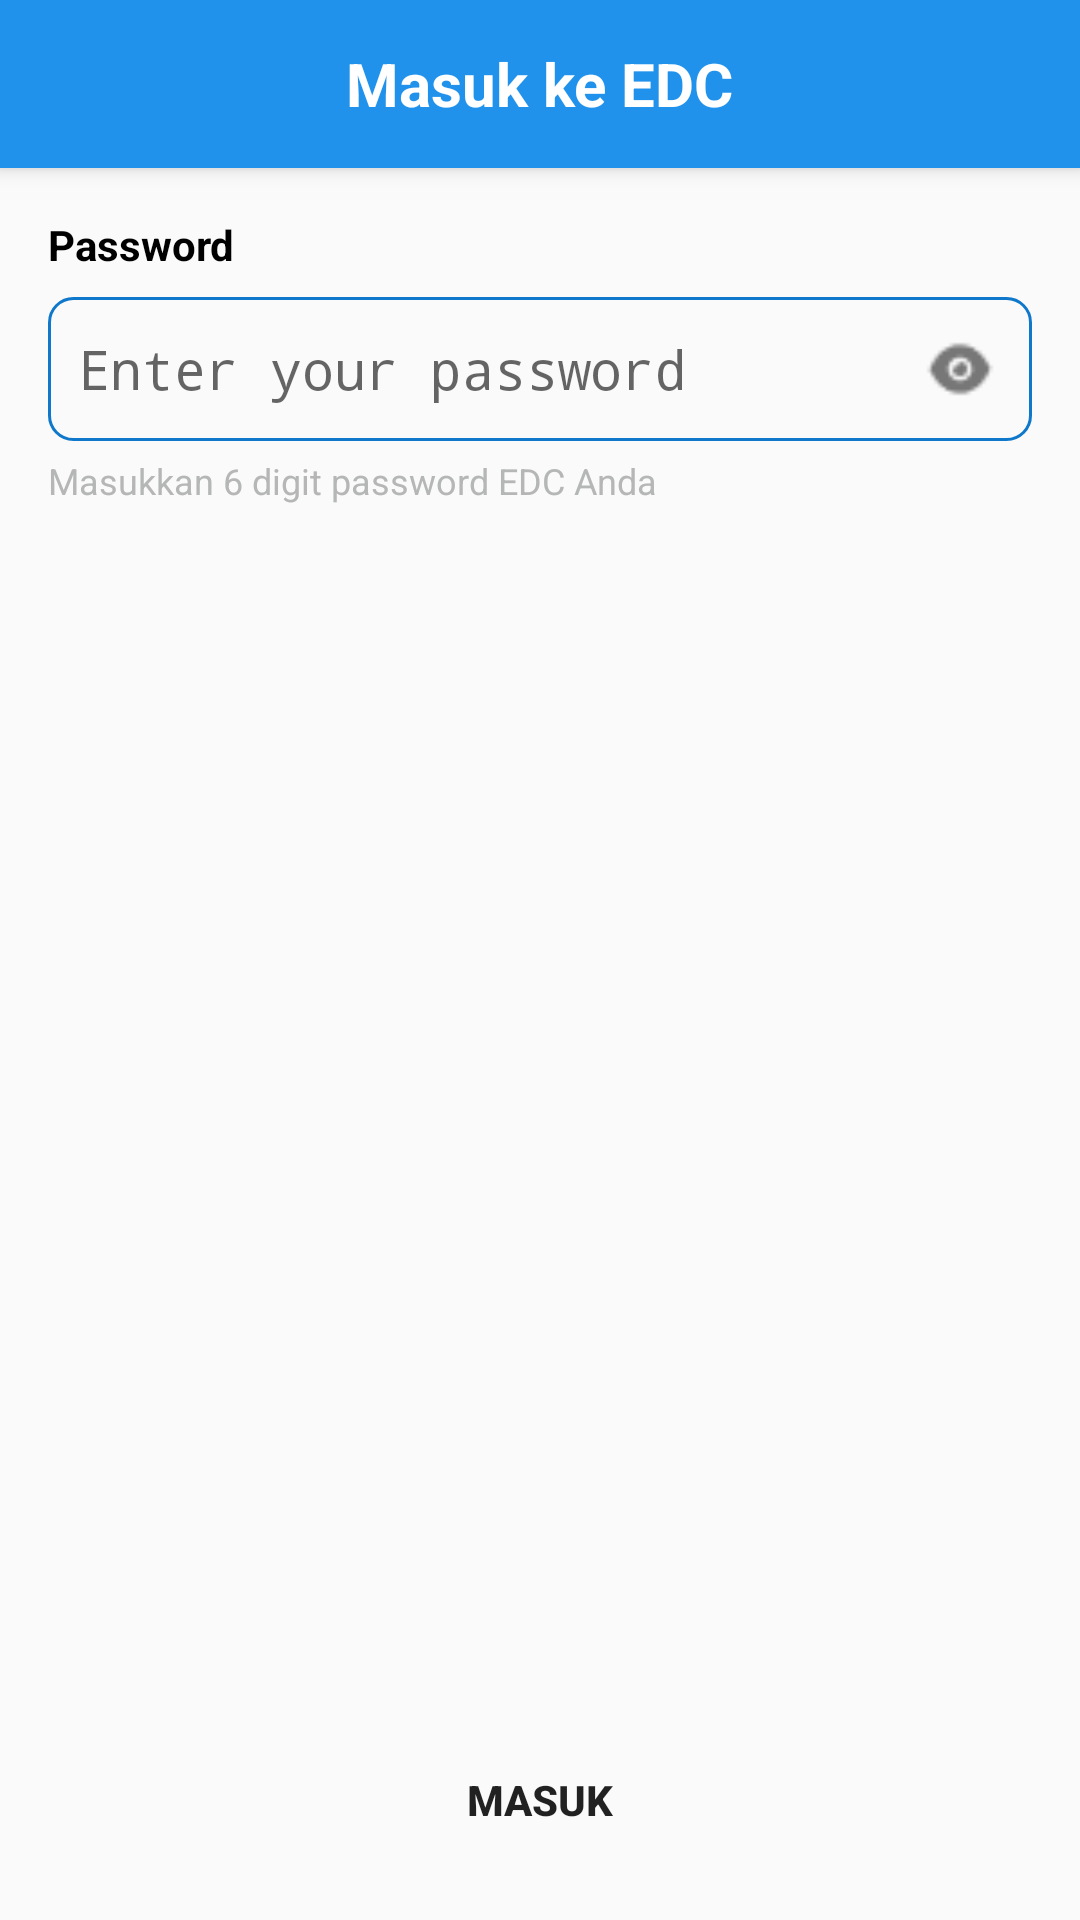

Named icons in this screenshot (1080px x 1920px) and their bounding boxes, (x1, y1, x2, y2):
Toggle Password Visibility: (929, 343, 991, 395)
